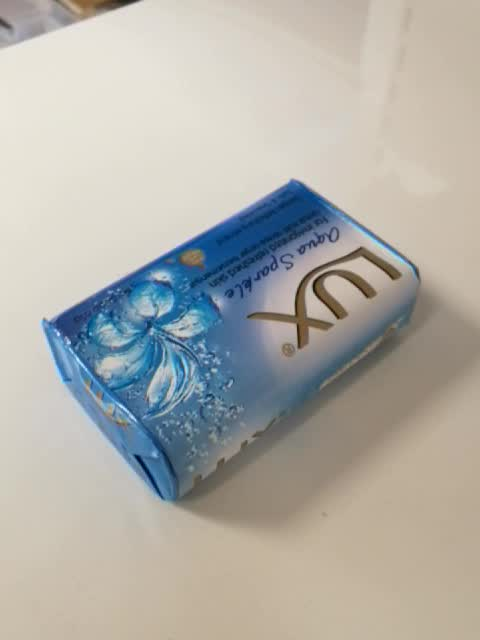soap: (40, 175, 424, 506)
